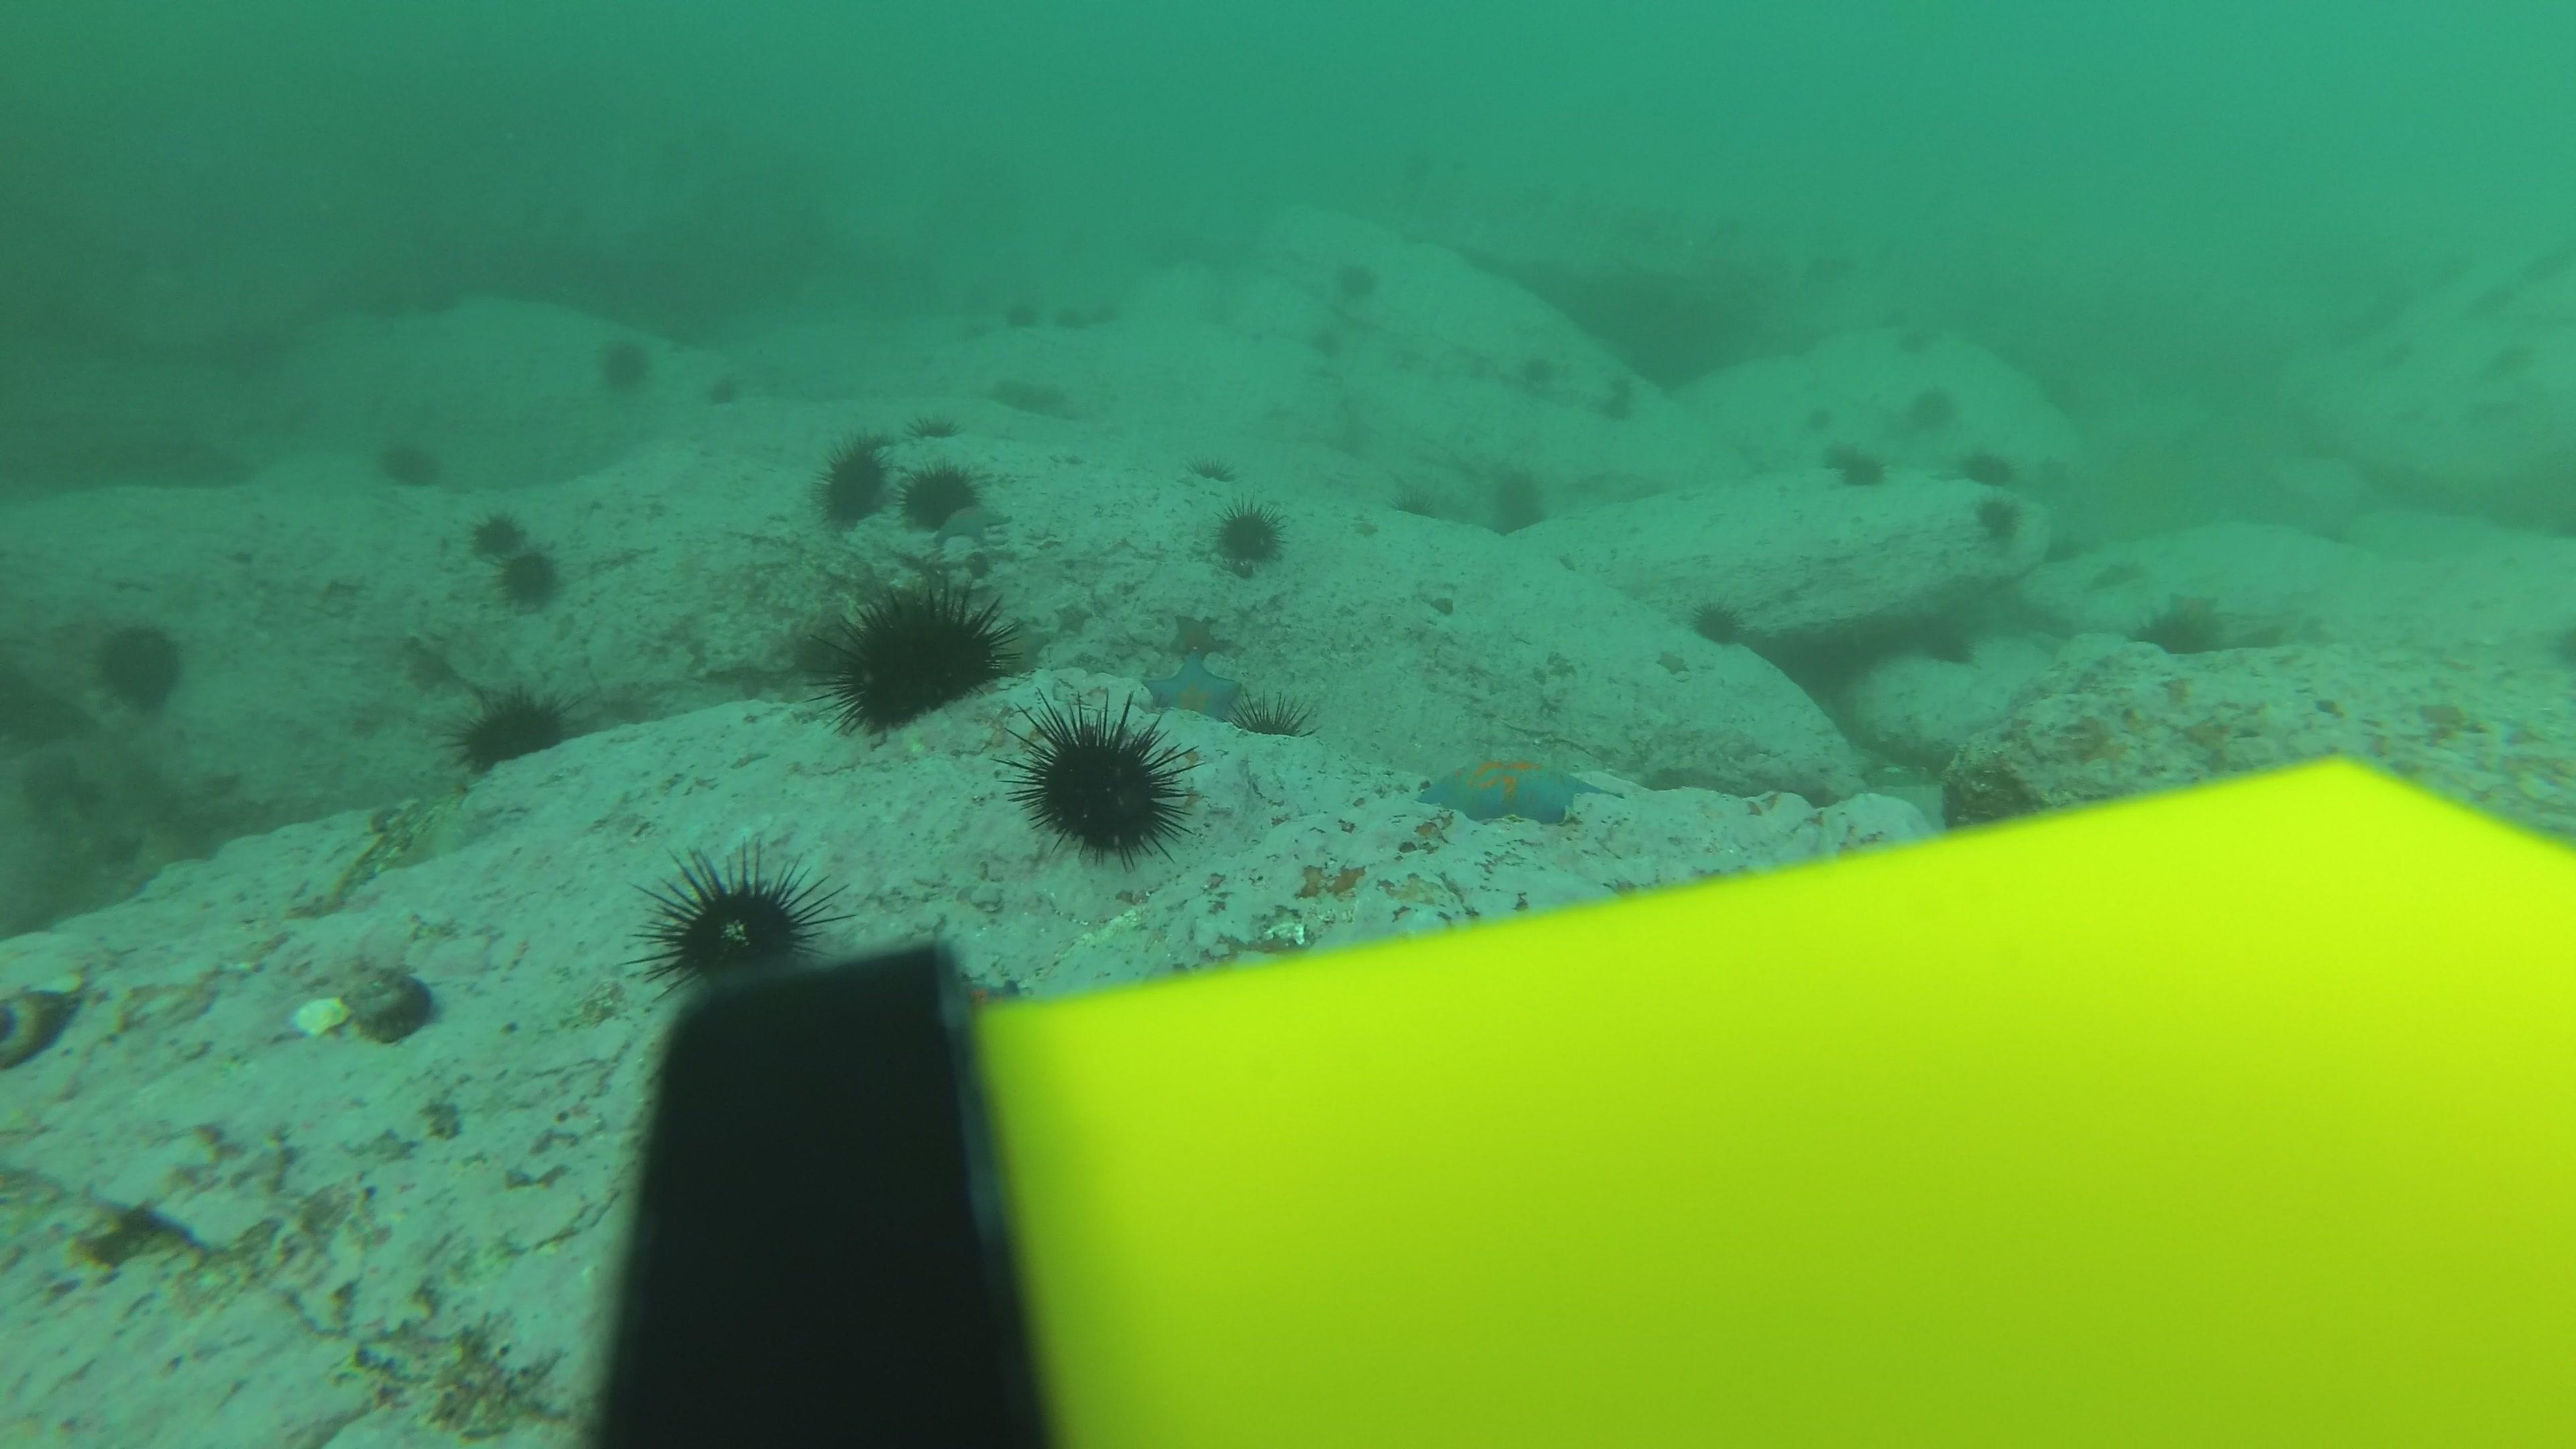echinus: (1012, 697, 1192, 867), (819, 580, 1016, 736), (639, 846, 835, 994), (451, 686, 570, 777), (88, 616, 189, 713), (812, 435, 890, 529), (897, 455, 982, 533), (2452, 280, 2541, 347), (2139, 593, 2226, 660), (2470, 340, 2557, 407), (1207, 497, 1284, 571), (1483, 464, 1552, 538), (487, 543, 563, 610), (460, 506, 538, 571), (2509, 230, 2576, 295), (373, 432, 444, 492), (593, 331, 656, 396), (1688, 593, 1746, 649), (2488, 338, 2557, 386), (2424, 235, 2488, 287), (1177, 455, 1256, 495), (902, 412, 982, 453), (1898, 384, 1955, 441), (1971, 492, 2026, 548), (1923, 616, 1978, 672), (1971, 446, 2026, 502), (1888, 315, 1943, 372), (1504, 343, 1559, 400), (2029, 515, 2084, 571), (2373, 274, 2429, 320), (2374, 324, 2419, 375), (1815, 435, 1868, 474), (1385, 481, 1433, 524), (1838, 455, 1890, 494), (1332, 255, 1378, 297), (699, 372, 747, 412), (996, 294, 1044, 334), (1304, 327, 1352, 368), (1047, 297, 1093, 338), (1799, 402, 1842, 437), (1599, 366, 1642, 402)
holothurian: (985, 375, 1072, 419), (2068, 556, 2148, 600)
starfish: (1417, 748, 1594, 832), (1141, 653, 1249, 725), (400, 626, 460, 694), (938, 501, 1008, 547), (1169, 609, 1221, 660), (1644, 637, 1695, 688), (2033, 437, 2084, 488), (1053, 589, 1108, 635)
